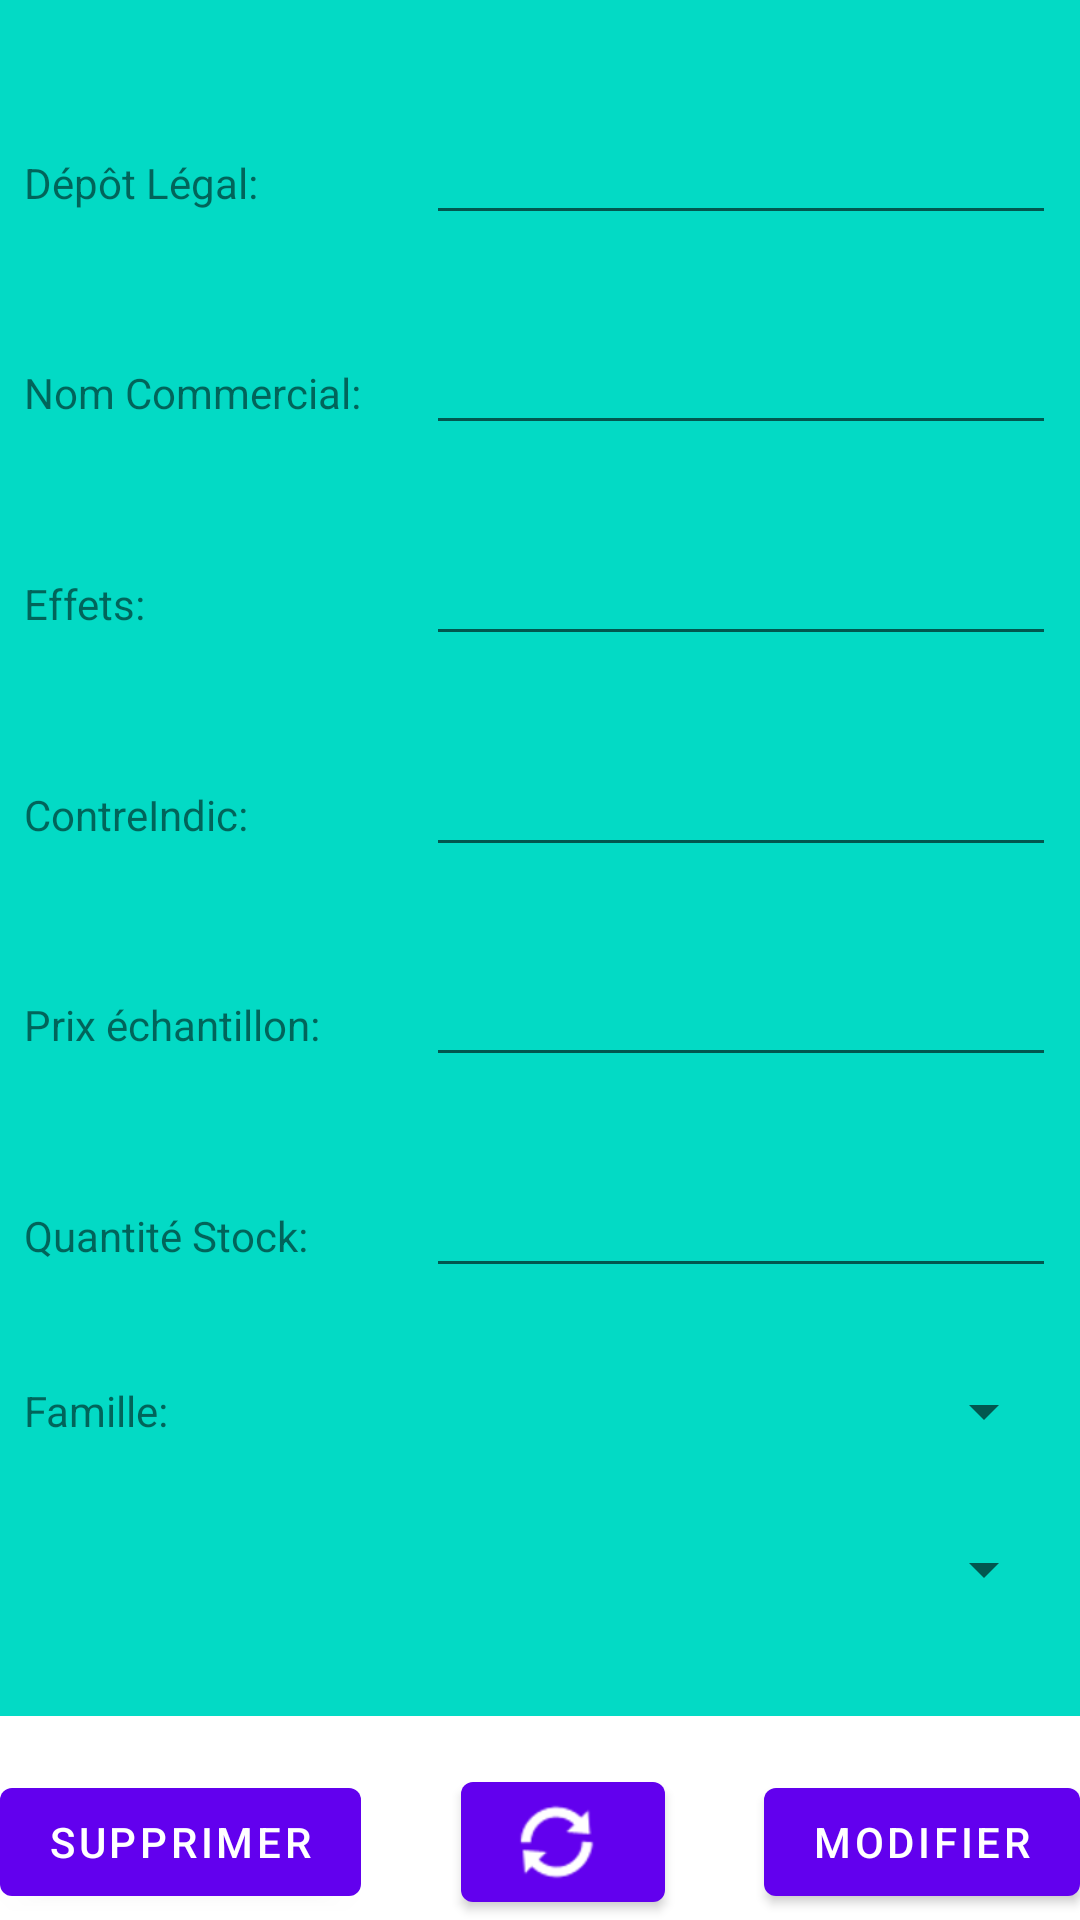

Screen size 1080x1920. Icon name, then its center in pixels as point (x, y):
popup sync: point (563, 1845)
